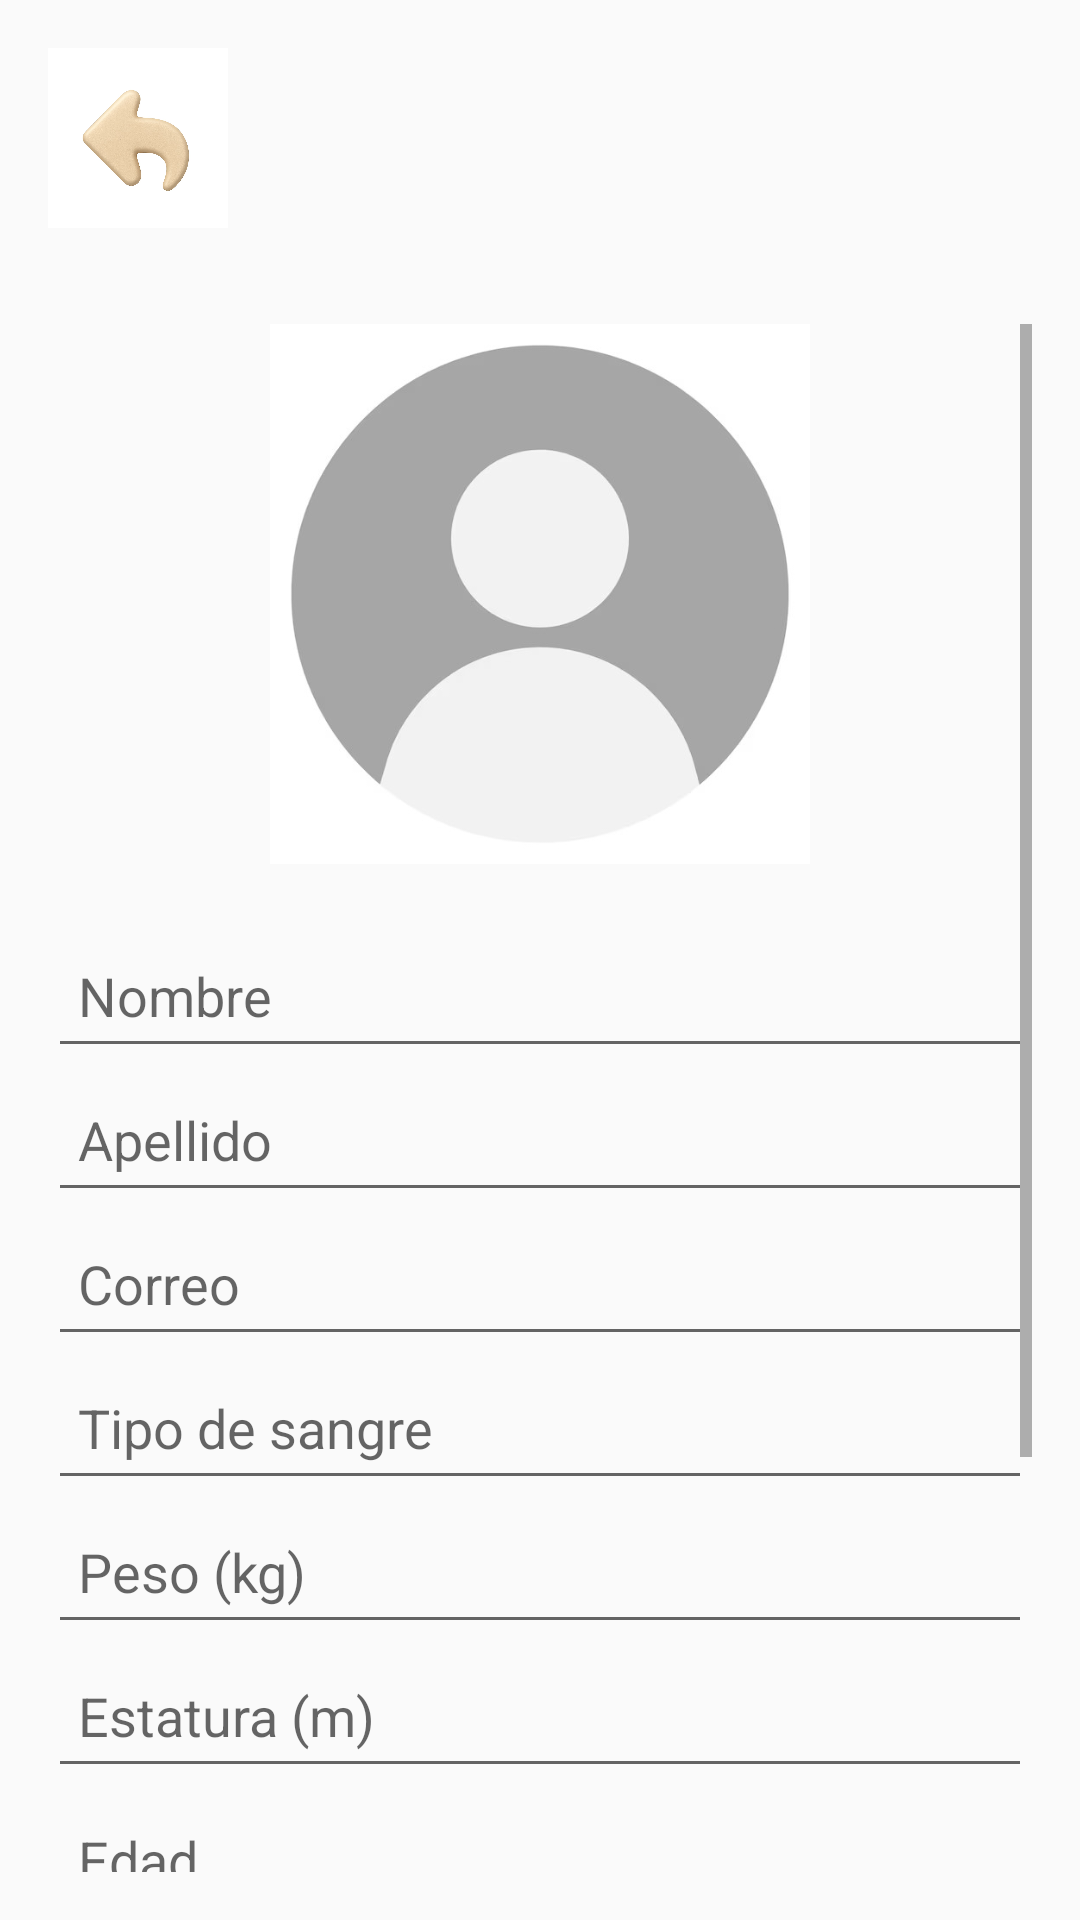

Screen size 1080 x 1920. Icon name, then its box in pixels as (x1, y1, x2, y2):
Volver: (83, 90, 189, 191)
